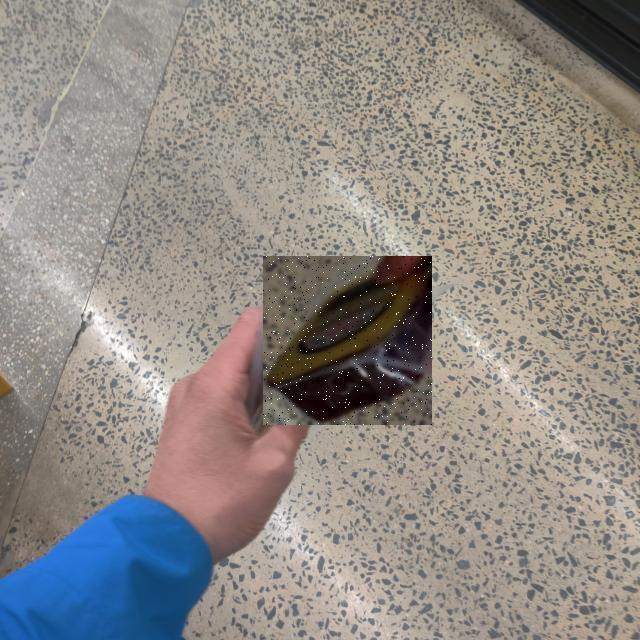cheese: (47, 212, 479, 638)
